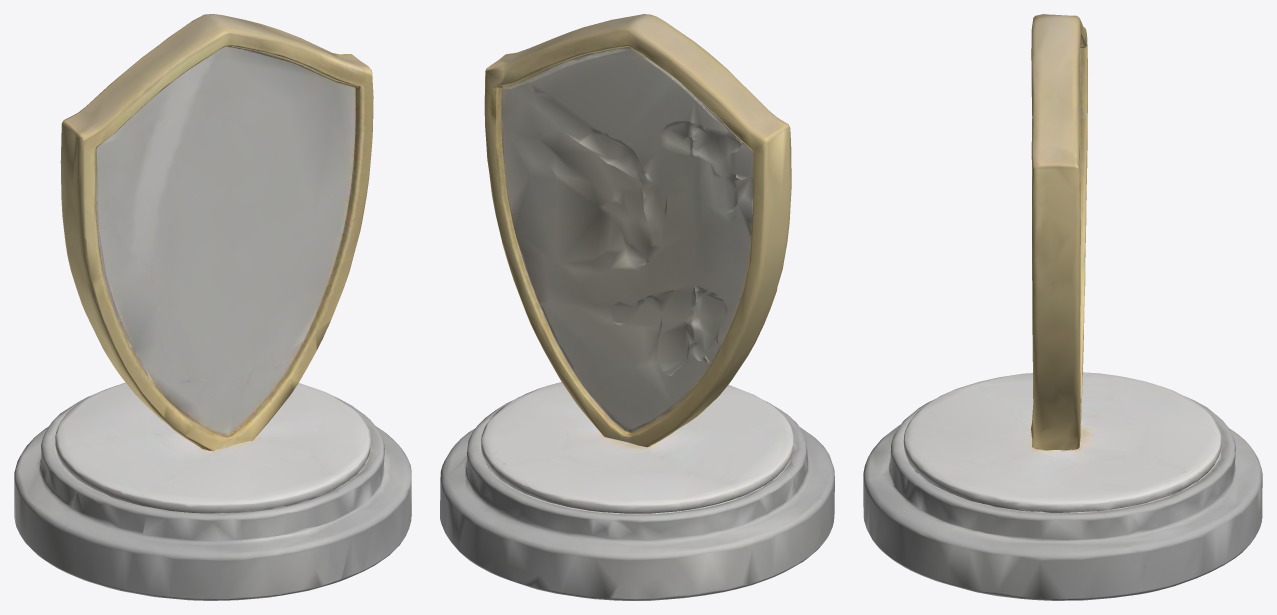
File: m2ShieldPedestal.glb
The picture shows the model from 3 angles, left to right: view 1: azimuth 30°, elevation 25°; view 2: azimuth 150°, elevation 25°; view 3: azimuth 270°, elevation 25°; orthographic projection.
Visible parts, largest first — view 1: model; view 2: model; view 3: model.
Boxes of the visible parts, <box> form: model: <box>14,14,411,600</box>; model: <box>440,14,834,600</box>; model: <box>863,14,1262,600</box>.
Size of the model in its own units: 1.36 by 1.9 by 1.37.
Materials: 1 (1 with a texture image).
